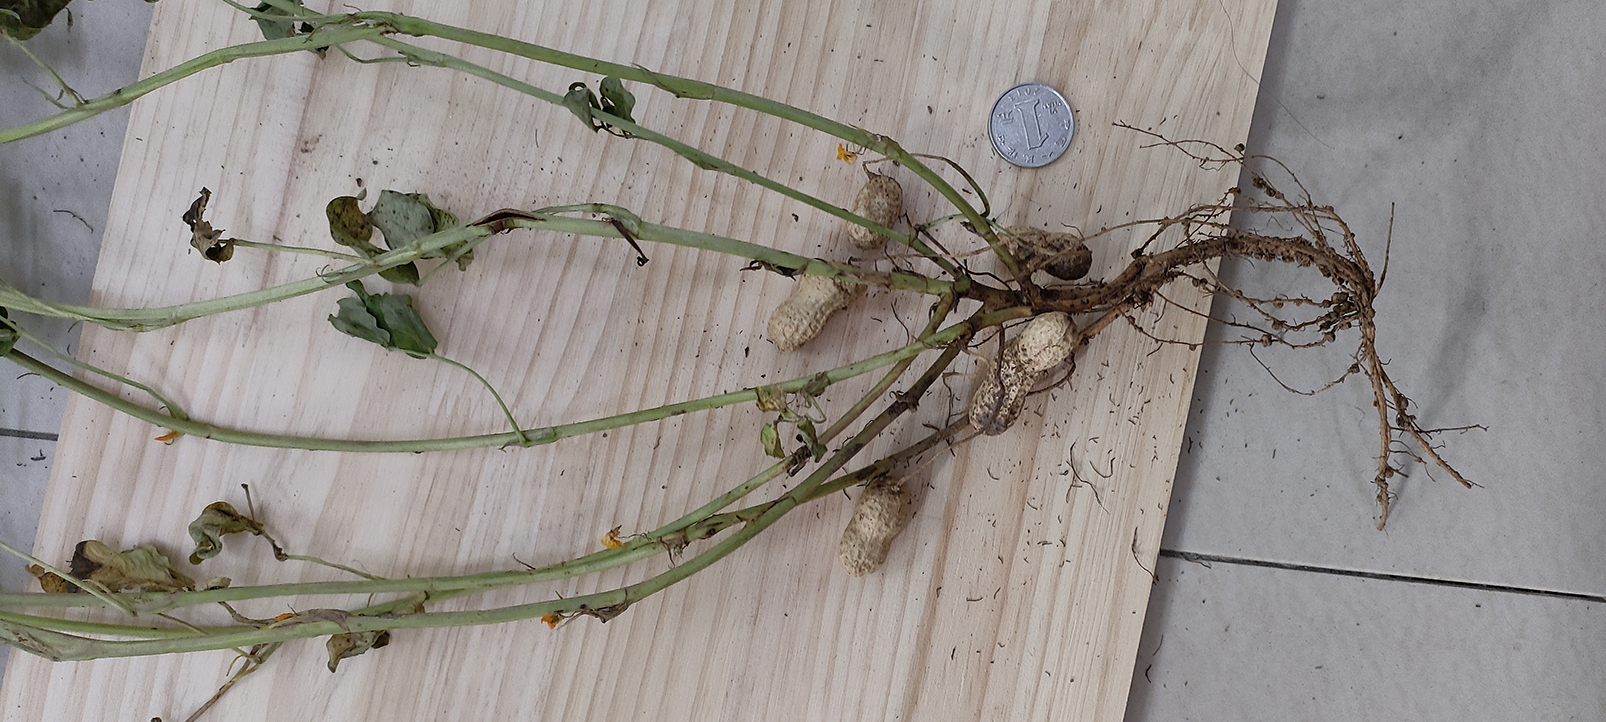h: (968, 310, 1079, 438), (768, 275, 865, 348), (836, 478, 908, 574), (846, 175, 902, 249)
l: (1001, 224, 1090, 281)
